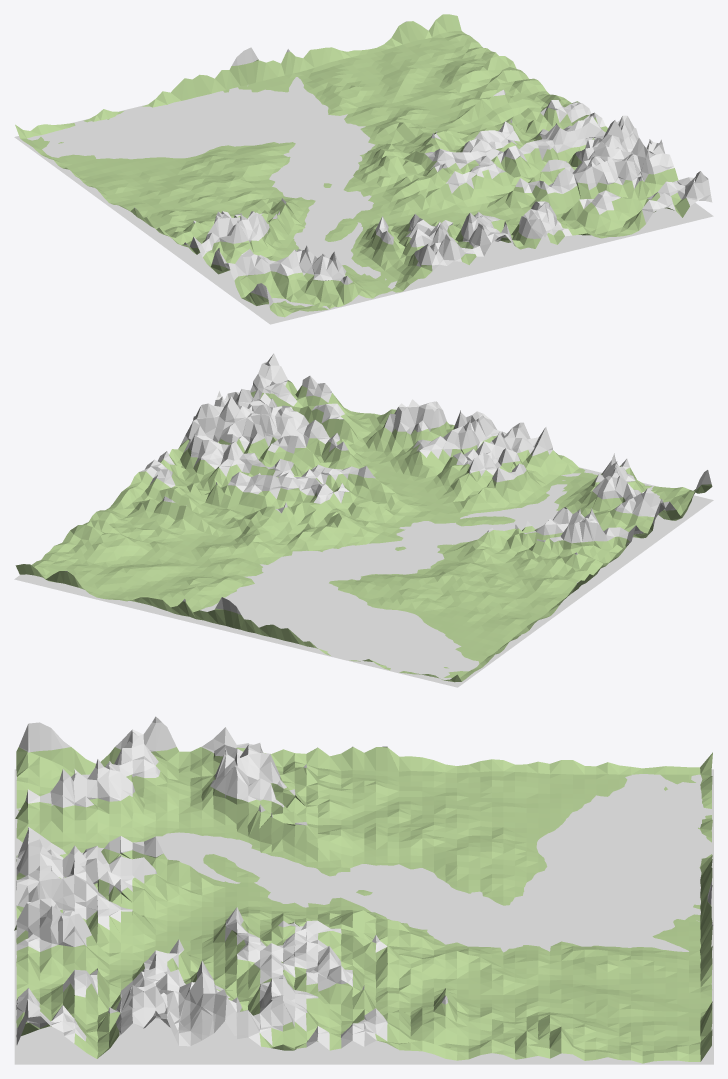
Rendered from bregenz-low-poly-mountain-2.fbx.
The picture shows the model from 3 angles, top to bottom: view 1: azimuth 30°, elevation 25°; view 2: azimuth 150°, elevation 25°; view 3: azimuth 270°, elevation 25°; orthographic projection. The views are drawn at different scales.
Parts seen in each view (by area): view 1: mountain, water; view 2: mountain, water; view 3: mountain, water.
Part boxes in pixels (<box>): mountain: <box>15,14,712,317</box>; water: <box>14,47,713,324</box>; mountain: <box>15,353,712,682</box>; water: <box>14,467,713,687</box>; mountain: <box>14,716,712,1063</box>; water: <box>14,769,713,1064</box>.
Bounding box in the file's own units: 601 × 600 × 70.
